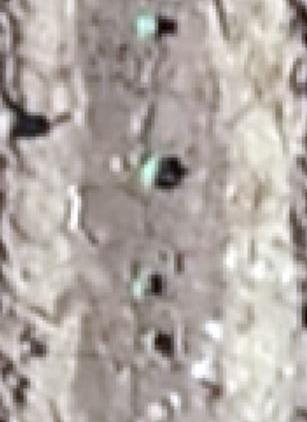cotton: (137, 12, 159, 39), (142, 156, 160, 185), (135, 276, 149, 298)
